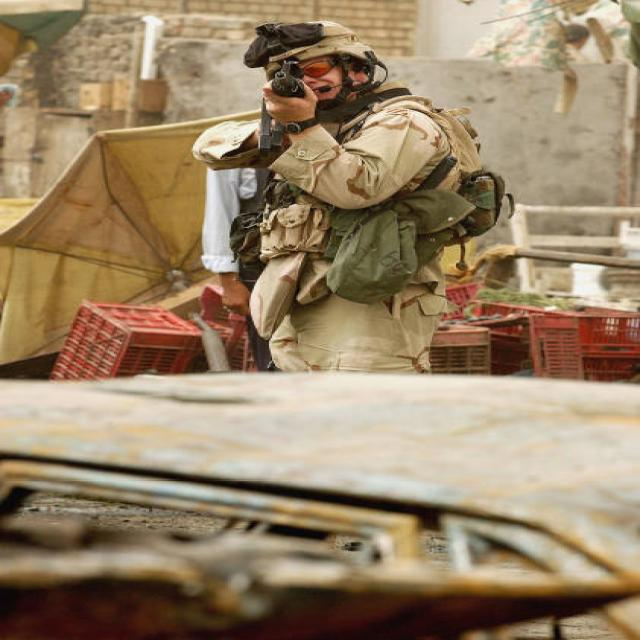soldier: (192, 23, 504, 374)
